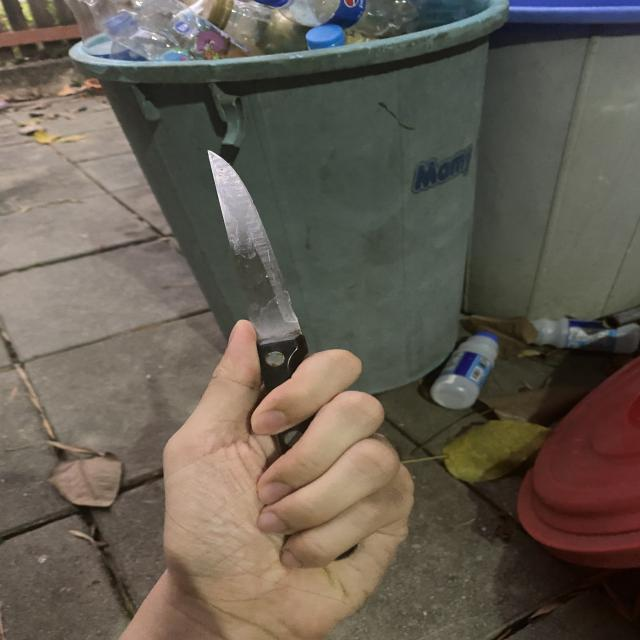faca: (122, 134, 414, 626)
